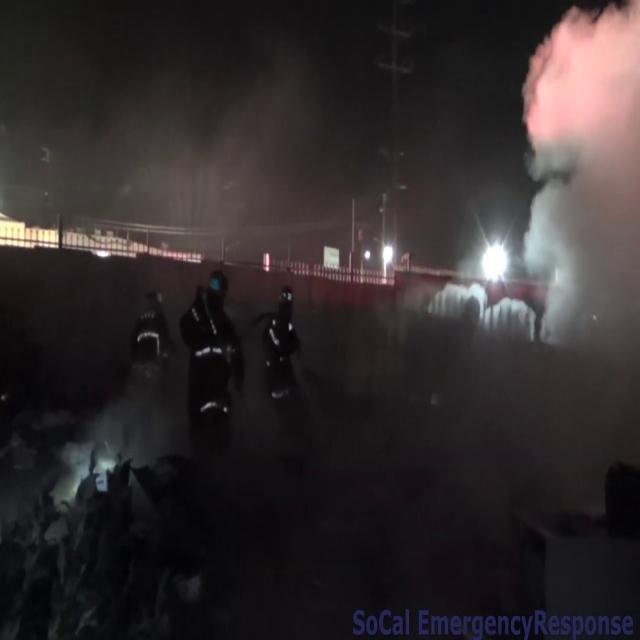Smoke: (1, 2, 348, 248), (519, 2, 640, 362)
